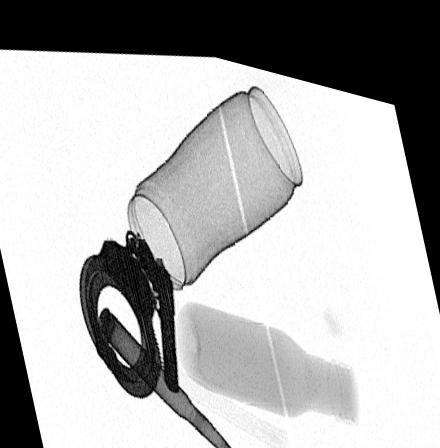Bullet: (95, 300, 240, 448)
Gun: (133, 228, 177, 388)
HandCuffs: (75, 223, 164, 392)
